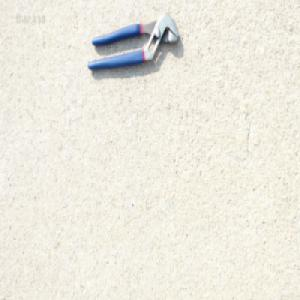Pliers: (87, 11, 180, 74)
